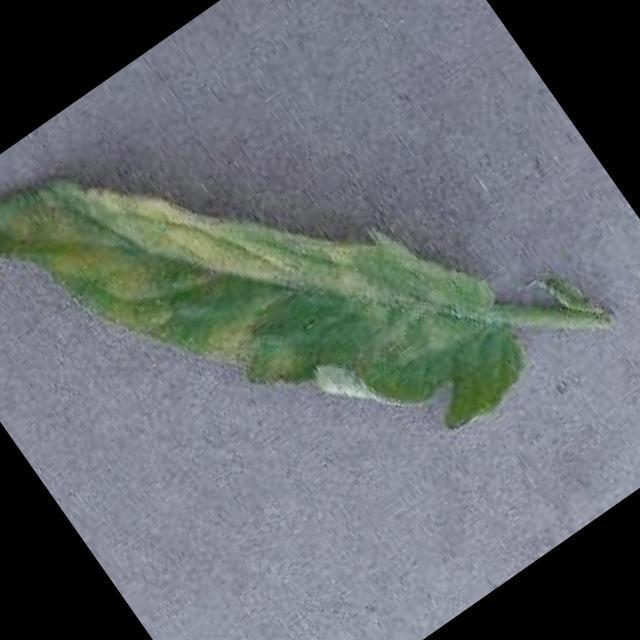Tomato mold leaf: (0, 0, 553, 630)
